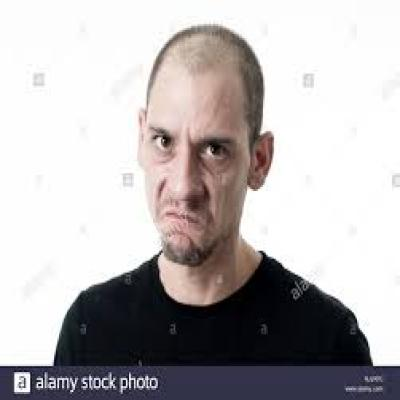angry: (140, 49, 254, 264)
